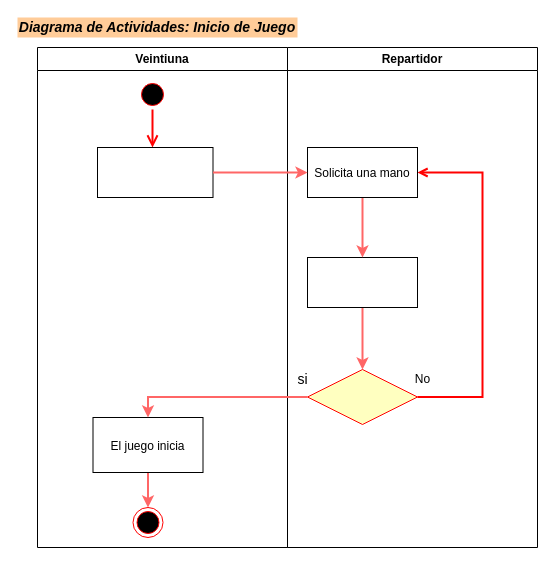
Image size: 555x565. Some labels were removed from this diagram. Each missing label, with the centre of its shape:
Baraja cartas: (362,282)
hay dos cartas: (362,396)
Solicita repartidor: (154,172)
